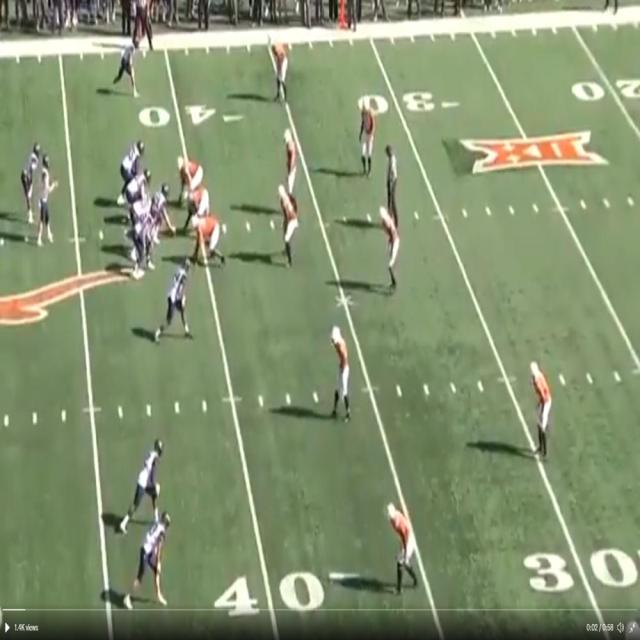center: (153, 184, 177, 238)
db: (388, 500, 418, 582), (331, 323, 351, 410), (530, 362, 550, 448), (380, 203, 398, 285), (273, 34, 291, 92), (362, 102, 378, 167)
lb: (278, 186, 296, 261), (281, 122, 299, 194)
qb: (33, 147, 54, 243)
skill: (134, 517, 168, 597), (133, 444, 163, 516), (23, 142, 42, 236), (165, 261, 190, 331), (118, 41, 137, 87)
